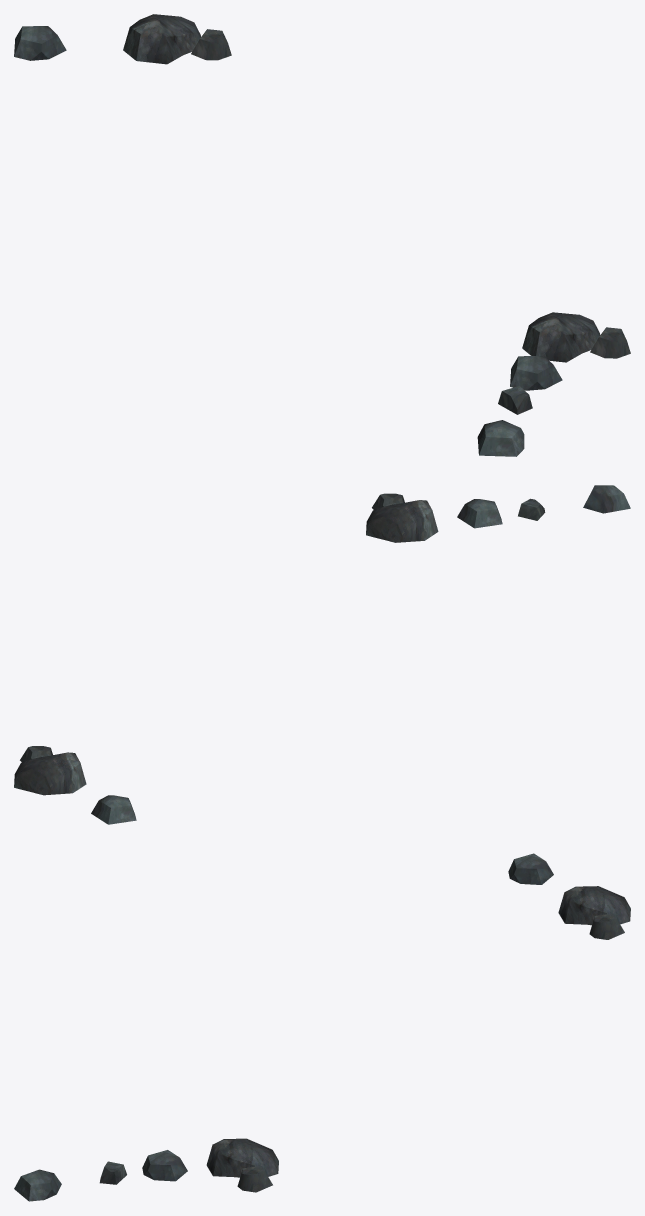
The model's file is object_rubble01.fbx.
3 renders of one model, top to bottom at view 1: azimuth 30°, elevation 25°; view 2: azimuth 150°, elevation 25°; view 3: azimuth 330°, elevation 25°, orthographic. The views are drawn at different scales.
Parts seen in each view (by area): view 1: Material_#238683587/cliffside; view 2: Material_#238683587/cliffside; view 3: Material_#238683587/cliffside.
Boxes of the visible parts, x1,y1,x2,y2 form: Material_#238683587/cliffside: (14, 14, 630, 456); Material_#238683587/cliffside: (14, 485, 630, 824); Material_#238683587/cliffside: (14, 853, 630, 1201).
Size of the model in its own units: 2.28 by 0.3219 by 9.31.
